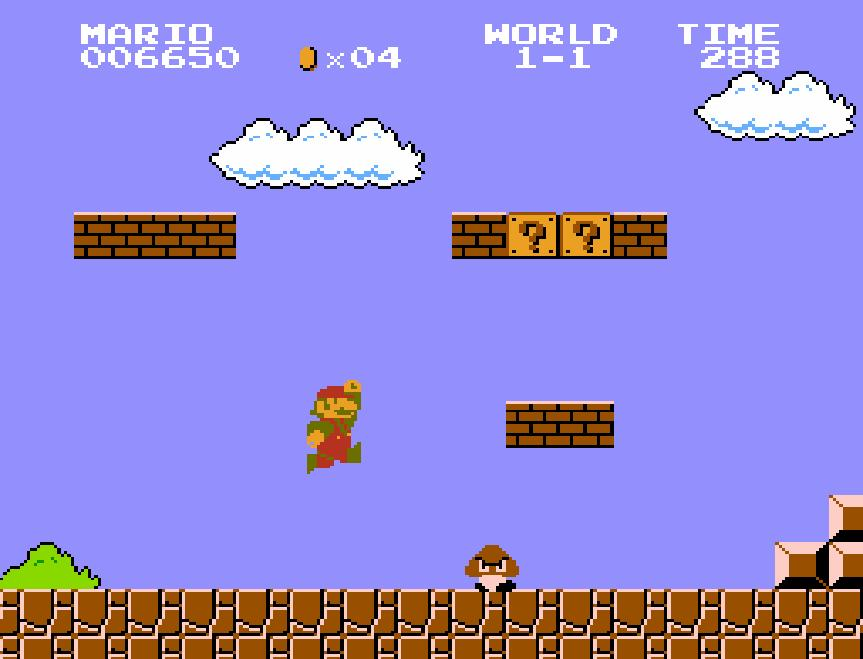big_mario: (304, 378, 362, 476)
